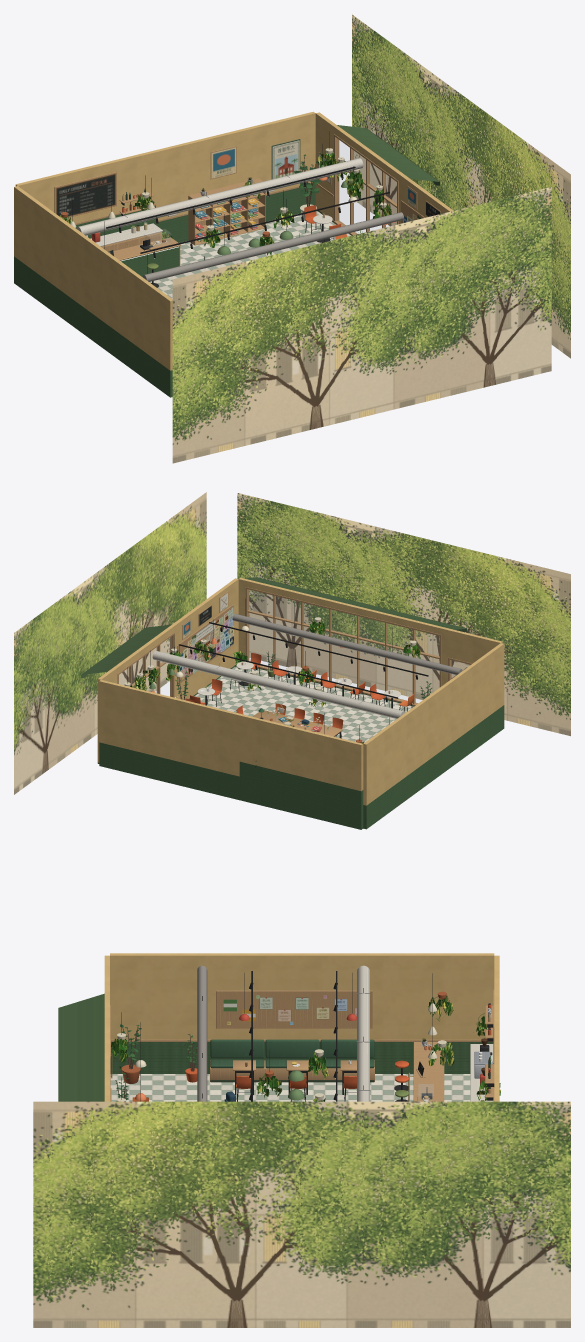
The model's file is daily_offbeat.glb.
3 renders of one model, top to bottom at view 1: azimuth 30°, elevation 25°; view 2: azimuth 150°, elevation 25°; view 3: azimuth 270°, elevation 25°, orthographic. The views are drawn at different scales.
Visible parts, largest first — view 1: WALL_front_VIEW_dof_window_view, WALL_right_VIEW_dof_window_view, WALL_left_dof_wall, WALL_back_dof_wall, dof_vcm, WALL_left_dof_tile, WALL_back_dof_print, dof_wood, dof_floor, WALL_right_dof_wall, dof_vcg, WALL_back_dof_tile (+8 smaller); view 2: WALL_front_VIEW_dof_window_view, WALL_right_VIEW_dof_window_view, WALL_back_dof_wall, WALL_left_dof_wall, WALL_front_dof_glass, WALL_back_dof_tile, dof_vcm, dof_floor, WALL_front_dof_wall, WALL_right_dof_wall, WALL_left_dof_tile, WALL_front_dof_wood (+9 smaller); view 3: WALL_right_VIEW_dof_window_view, WALL_left_dof_wall, dof_vcg, dof_floor, dof_vcm, WALL_left_dof_wood, WALL_front_dof_vc, WALL_left_dof_tile, dof_wood, dof_pothos, dof_vc, WALL_left_dof_print (+3 smaller).
Boxes of the visible parts, x1=… form: WALL_front_VIEW_dof_window_view: x1=172, y1=187, x2=551, y2=463; WALL_right_VIEW_dof_window_view: x1=352, y1=14, x2=570, y2=358; WALL_left_dof_wall: x1=14, y1=186, x2=172, y2=370; WALL_back_dof_wall: x1=15, y1=111, x2=315, y2=223; dof_vcm: x1=72, y1=131, x2=403, y2=287; WALL_left_dof_tile: x1=14, y1=256, x2=172, y2=397; WALL_back_dof_print: x1=56, y1=140, x2=299, y2=216; dof_wood: x1=101, y1=178, x2=265, y2=265; dof_floor: x1=149, y1=211, x2=350, y2=298; WALL_right_dof_wall: x1=315, y1=112, x2=453, y2=223; dof_vcg: x1=61, y1=148, x2=395, y2=269; WALL_back_dof_tile: x1=75, y1=184, x2=315, y2=242; WALL_front_VIEW_dof_window_view: x1=237, y1=493, x2=570, y2=736; WALL_right_VIEW_dof_window_view: x1=14, y1=492, x2=206, y2=794; WALL_back_dof_wall: x1=99, y1=680, x2=363, y2=791; WALL_left_dof_wall: x1=363, y1=643, x2=504, y2=805; WALL_front_dof_glass: x1=249, y1=590, x2=468, y2=702; WALL_back_dof_tile: x1=99, y1=742, x2=363, y2=829; dof_vcm: x1=127, y1=599, x2=462, y2=740; dof_floor: x1=194, y1=666, x2=413, y2=828; WALL_front_dof_wall: x1=238, y1=577, x2=502, y2=686; WALL_right_dof_wall: x1=97, y1=578, x2=238, y2=762; WALL_left_dof_tile: x1=363, y1=705, x2=504, y2=829; WALL_front_dof_wood: x1=245, y1=587, x2=472, y2=705; WALL_right_VIEW_dof_window_view: x1=33, y1=1101, x2=570, y2=1327; WALL_left_dof_wall: x1=110, y1=953, x2=494, y2=1039; dof_vcg: x1=117, y1=991, x2=493, y2=1101; dof_floor: x1=110, y1=1074, x2=470, y2=1101; dof_vcm: x1=121, y1=965, x2=493, y2=1101; WALL_left_dof_wood: x1=111, y1=990, x2=492, y2=1041; WALL_front_dof_vc: x1=58, y1=993, x2=104, y2=1101; WALL_left_dof_tile: x1=110, y1=1042, x2=493, y2=1073; dof_wood: x1=210, y1=1042, x2=444, y2=1101; dof_pothos: x1=111, y1=995, x2=500, y2=1101; dof_vc: x1=113, y1=996, x2=486, y2=1101; WALL_left_dof_print: x1=223, y1=995, x2=356, y2=1024.
Size of the model in its own units: 15 by 6.5 by 14.5.
Materials: 15 (13 with a texture image).
